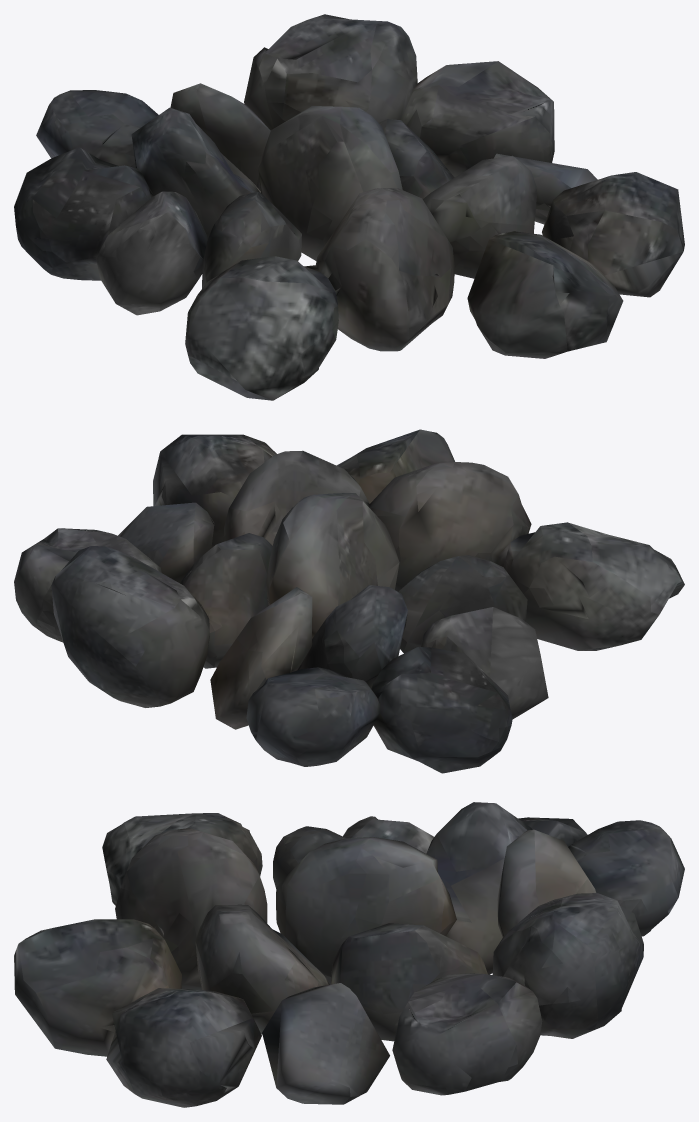
Rendered from rock.glb.
3 views of the same model, one above another, from view 1: azimuth 30°, elevation 25°; view 2: azimuth 150°, elevation 25°; view 3: azimuth 270°, elevation 25° (orthographic). The views are drawn at different scales.
Parts seen in each view (by area): view 1: tripo_node_f4fd3bc9; view 2: tripo_node_f4fd3bc9; view 3: tripo_node_f4fd3bc9.
Part boxes in pixels (bbox=[...]): tripo_node_f4fd3bc9: bbox=[14, 14, 684, 400]; tripo_node_f4fd3bc9: bbox=[14, 429, 684, 773]; tripo_node_f4fd3bc9: bbox=[14, 802, 684, 1107].
Bounding box in the file's own units: 3.1 × 1 × 3.54.
Materials: 1 (1 with a texture image).
